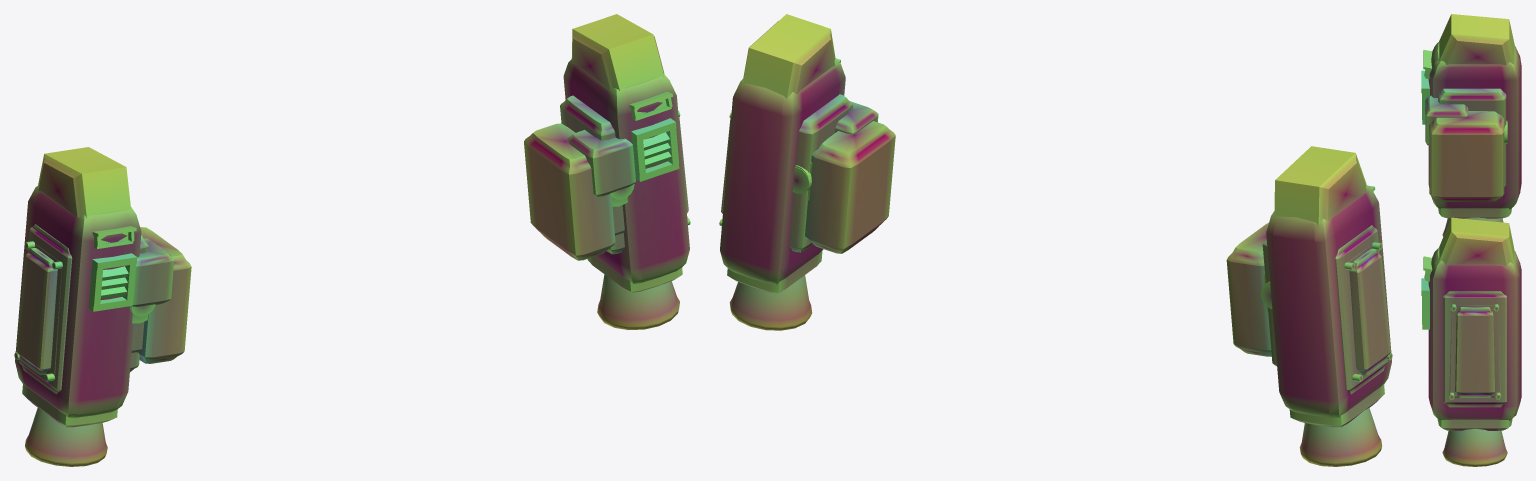
File: llm_gen_leg_thrusters_093_38b39c.glb
3 views of the same model, side by side, from view 1: azimuth 30°, elevation 25°; view 2: azimuth 150°, elevation 25°; view 3: azimuth 270°, elevation 25° (orthographic). The views are drawn at different scales.
Visible parts, largest first — view 1: calf_thruster_hull_1_adapter_dark_l, calf_thruster_hull_1_adapter_dark_r, adapter_calf_clamp_r, nacelle_upper_cowl_2_gold_r, nacelle_upper_cowl_2_gold_l, nacelle_flank_armor_6_gold_l, adapter_calf_clamp_l, calf_main_bell_8_vernier_bell_vernier_l, calf_main_bell_8_vernier_bell_vernier_r, adapter_leg_knee_mount_dark_9_adapter_dark_r, adapter_sub_flank_frame_dark_5_adapter_dark_l, adapter_leg_knee_mount_dark_9_adapter_dark_l (+7 smaller); view 2: calf_thruster_hull_1_adapter_dark_l, calf_thruster_hull_1_adapter_dark_r, adapter_calf_clamp_r, nacelle_upper_cowl_2_gold_r, nacelle_upper_cowl_2_gold_l, nacelle_flank_armor_6_gold_l, adapter_calf_clamp_l, calf_main_bell_8_vernier_bell_vernier_l, calf_main_bell_8_vernier_bell_vernier_r, adapter_sub_tank_cradle_dark_0_adapter_dark_r, adapter_sub_flank_frame_dark_5_adapter_dark_l, adapter_sub_nozzle_shroud_dark_7_adapter_dark_l (+2 smaller); view 3: calf_thruster_hull_1_adapter_dark_r, adapter_calf_clamp_l, calf_thruster_hull_1_adapter_dark_l, nacelle_flank_armor_6_gold_r, nacelle_upper_cowl_2_gold_l, nacelle_upper_cowl_2_gold_r, adapter_sub_flank_frame_dark_5_adapter_dark_r, calf_main_bell_8_vernier_bell_vernier_r, adapter_sub_tank_cradle_dark_0_adapter_dark_l, adapter_leg_knee_mount_dark_9_adapter_dark_l, adapter_sub_nozzle_shroud_dark_7_adapter_dark_r, adapter_sub_nozzle_shroud_dark_7_adapter_dark_l (+5 smaller).
Part boxes in pixels (bbox=[...]): calf_thruster_hull_1_adapter_dark_l: bbox=[15, 185, 141, 417]; calf_thruster_hull_1_adapter_dark_r: bbox=[563, 58, 689, 283]; adapter_calf_clamp_r: bbox=[524, 123, 627, 260]; nacelle_upper_cowl_2_gold_r: bbox=[571, 14, 664, 91]; nacelle_upper_cowl_2_gold_l: bbox=[38, 147, 131, 218]; nacelle_flank_armor_6_gold_l: bbox=[14, 241, 62, 381]; adapter_calf_clamp_l: bbox=[131, 227, 191, 363]; calf_main_bell_8_vernier_bell_vernier_l: bbox=[25, 407, 107, 466]; calf_main_bell_8_vernier_bell_vernier_r: bbox=[597, 274, 679, 329]; adapter_leg_knee_mount_dark_9_adapter_dark_r: bbox=[567, 130, 635, 196]; adapter_sub_flank_frame_dark_5_adapter_dark_l: bbox=[18, 224, 72, 394]; adapter_leg_knee_mount_dark_9_adapter_dark_l: bbox=[131, 238, 174, 306]; calf_thruster_hull_1_adapter_dark_l: bbox=[1266, 184, 1391, 417]; calf_thruster_hull_1_adapter_dark_r: bbox=[720, 59, 845, 284]; adapter_calf_clamp_r: bbox=[805, 121, 895, 253]; nacelle_upper_cowl_2_gold_r: bbox=[742, 14, 835, 99]; nacelle_upper_cowl_2_gold_l: bbox=[1274, 146, 1366, 226]; nacelle_flank_armor_6_gold_l: bbox=[1344, 242, 1392, 381]; adapter_calf_clamp_l: bbox=[1226, 222, 1271, 356]; calf_main_bell_8_vernier_bell_vernier_l: bbox=[1299, 408, 1382, 466]; calf_main_bell_8_vernier_bell_vernier_r: bbox=[729, 275, 812, 330]; adapter_sub_tank_cradle_dark_0_adapter_dark_r: bbox=[789, 94, 852, 252]; adapter_sub_flank_frame_dark_5_adapter_dark_l: bbox=[1335, 225, 1388, 394]; adapter_sub_nozzle_shroud_dark_7_adapter_dark_l: bbox=[1289, 384, 1384, 427]; calf_thruster_hull_1_adapter_dark_r: bbox=[1428, 247, 1521, 420]; adapter_calf_clamp_l: bbox=[1429, 111, 1504, 201]; calf_thruster_hull_1_adapter_dark_l: bbox=[1428, 42, 1521, 209]; nacelle_flank_armor_6_gold_r: bbox=[1449, 304, 1501, 399]; nacelle_upper_cowl_2_gold_l: bbox=[1439, 14, 1514, 65]; nacelle_upper_cowl_2_gold_r: bbox=[1438, 217, 1514, 265]; adapter_sub_flank_frame_dark_5_adapter_dark_r: bbox=[1443, 291, 1506, 407]; calf_main_bell_8_vernier_bell_vernier_r: bbox=[1442, 428, 1507, 466]; adapter_sub_tank_cradle_dark_0_adapter_dark_l: bbox=[1438, 88, 1506, 186]; adapter_leg_knee_mount_dark_9_adapter_dark_l: bbox=[1425, 95, 1468, 145]; adapter_sub_nozzle_shroud_dark_7_adapter_dark_r: bbox=[1437, 419, 1512, 430]; adapter_sub_nozzle_shroud_dark_7_adapter_dark_l: bbox=[1438, 208, 1511, 218].
Size of the model in its own units: 85.78 by 36.81 by 14.73.
